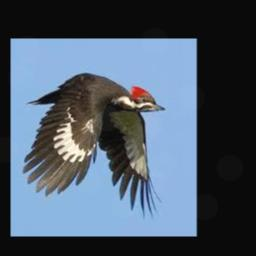Woodpecker: (23, 72, 164, 220)
